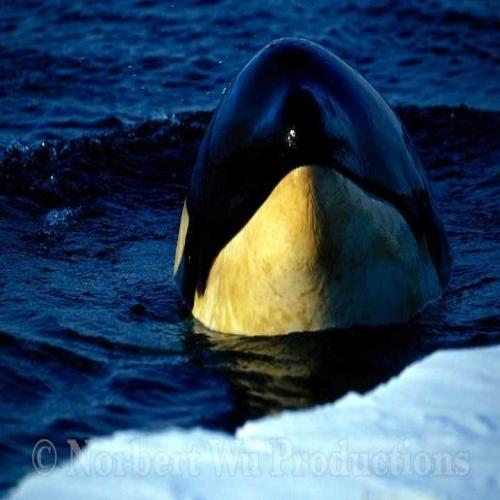killer_whale-endangered: (161, 24, 479, 356)
